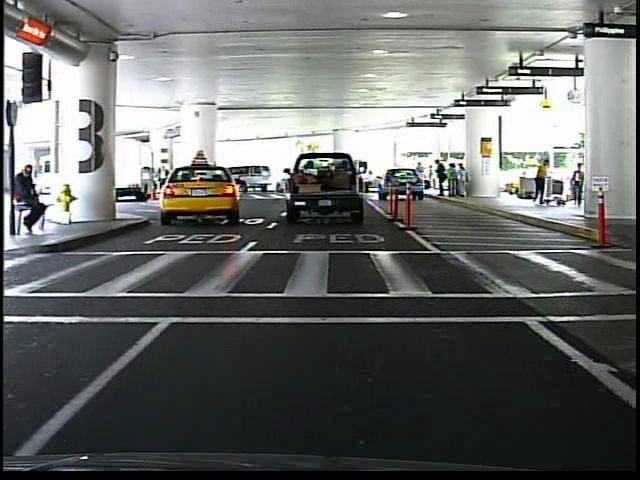person: (15, 161, 52, 234), (530, 155, 553, 209), (569, 160, 586, 210), (415, 161, 427, 193)
